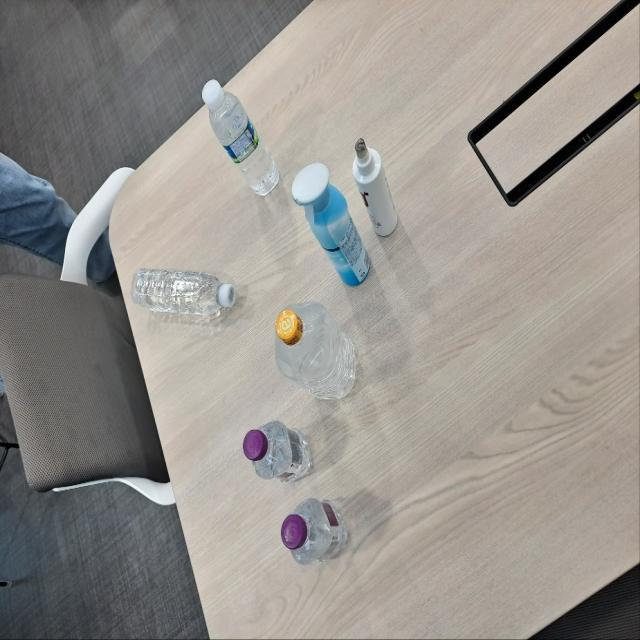spray: (286, 160, 374, 289), (350, 135, 403, 239)
water: (200, 76, 280, 202), (272, 301, 360, 405), (130, 264, 240, 326), (277, 494, 352, 570), (239, 419, 318, 487)
